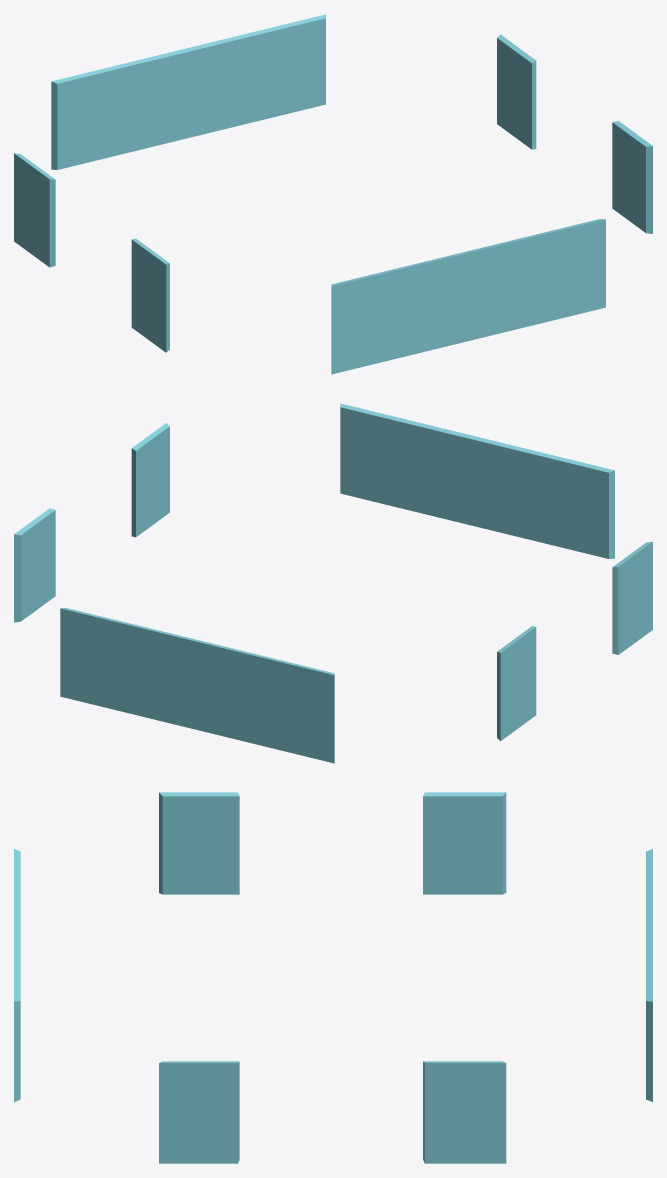
Rendered from NewWindows.fbx.
3 views of the same model, one above another, from view 1: azimuth 30°, elevation 25°; view 2: azimuth 150°, elevation 25°; view 3: azimuth 270°, elevation 25° (orthographic). The views are drawn at different scales.
Parts seen in each view (by area): view 1: Windows.006, Windows.003, Windows.005, Windows.002, Windows.001, Windows.004; view 2: Windows.006, Windows.003, Windows.001, Windows.004, Windows.005, Windows.002; view 3: Windows.005, Windows.001, Windows.002, Windows.004, Windows.003, Windows.006.
Part boxes in pixels (x1,y1,x2,y2): Windows.006: (51,14,325,169); Windows.003: (331,219,605,374); Windows.005: (14,153,55,267); Windows.002: (612,120,652,233); Windows.001: (497,34,536,149); Windows.004: (131,238,169,352); Windows.006: (60,608,334,763); Windows.003: (340,403,614,558); Windows.001: (14,508,55,622); Windows.004: (612,541,652,654); Windows.005: (497,626,536,740); Windows.002: (131,423,169,537); Windows.005: (423,792,506,894); Windows.001: (423,1061,506,1163); Windows.002: (159,1061,239,1163); Windows.004: (159,792,239,894); Windows.003: (14,849,20,1101); Windows.006: (646,849,652,1101).
Bounding box in the file's own units: 3370 × 584 × 3359.
